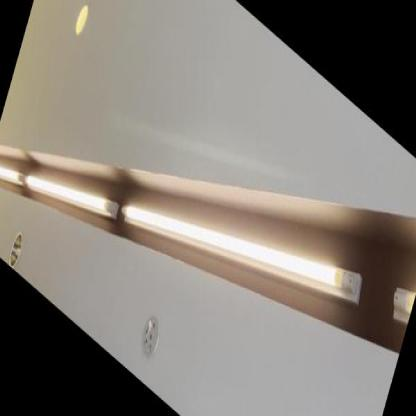light_on: (114, 85, 370, 415), (15, 99, 128, 271), (378, 260, 415, 340), (0, 136, 26, 211)
